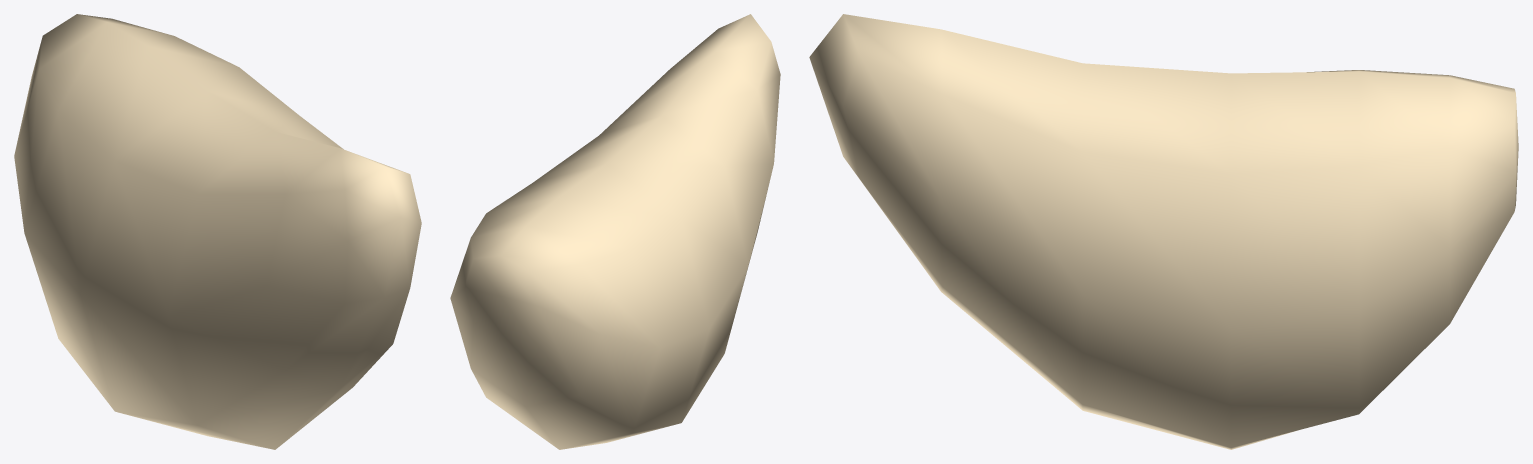
The model's file is garlic 1.fbx.
3 views of the same model, side by side, from view 1: azimuth 30°, elevation 25°; view 2: azimuth 150°, elevation 25°; view 3: azimuth 270°, elevation 25° (orthographic). The views are drawn at different scales.
Parts seen in each view (by area): view 1: clove; view 2: clove; view 3: clove.
Part boxes in pixels (x1,y1,x2,y2): clove: (14,14,421,449); clove: (450,14,780,449); clove: (809,14,1518,449).
Bounding box in the file's own units: 142 × 64.27 × 96.49.
